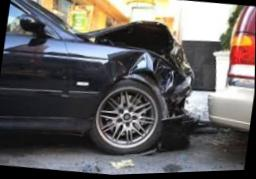Bonnet: (75, 22, 189, 76)
Bumper: (158, 71, 197, 153)
Fender: (97, 45, 194, 108)
